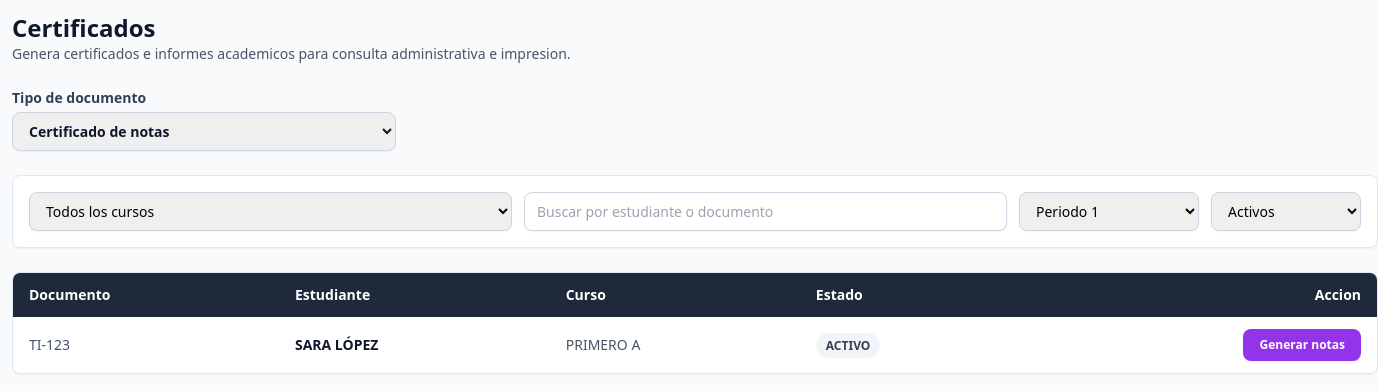
Certificados con todos los estados (paso 6.10) › pide todos los estados, empieza mostrando los activos y deja ver a un retirado
The width and height of the screenshot is (1378, 391).
Check: the text "TI-123" is shown, box [13, 317, 279, 373]
Check: the text "TI-999" is not shown
Select "Retirados" in the 3rd dropdown showing "Activos" at coordinates (1286, 212), box [1211, 192, 1361, 231]
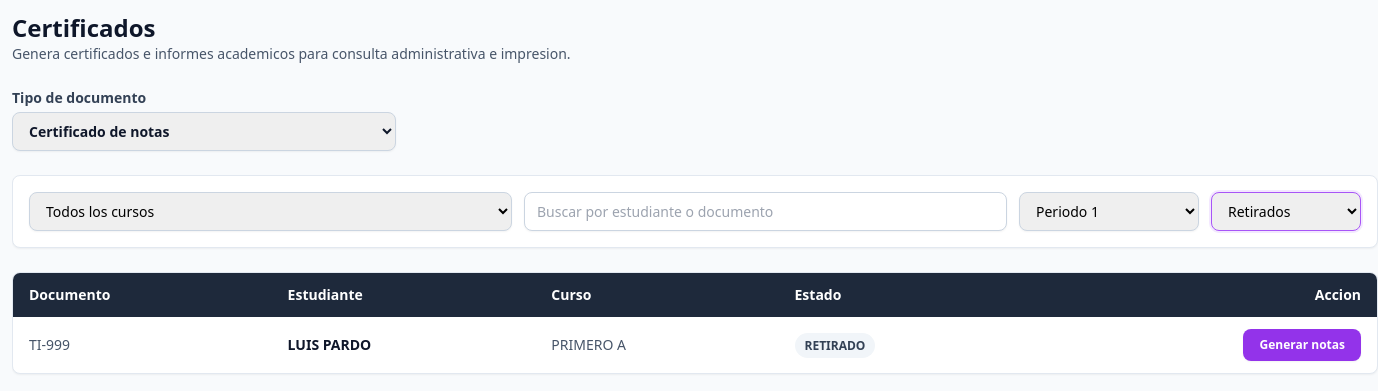
Check: the text "TI-999" is shown, box [13, 317, 272, 373]
Check: the text "TI-123" is gone
